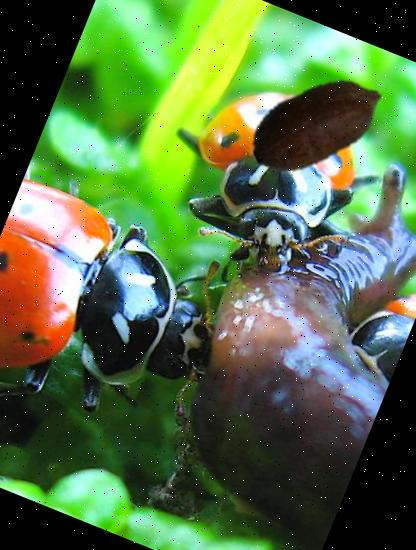Nut: (225, 31, 411, 218)
